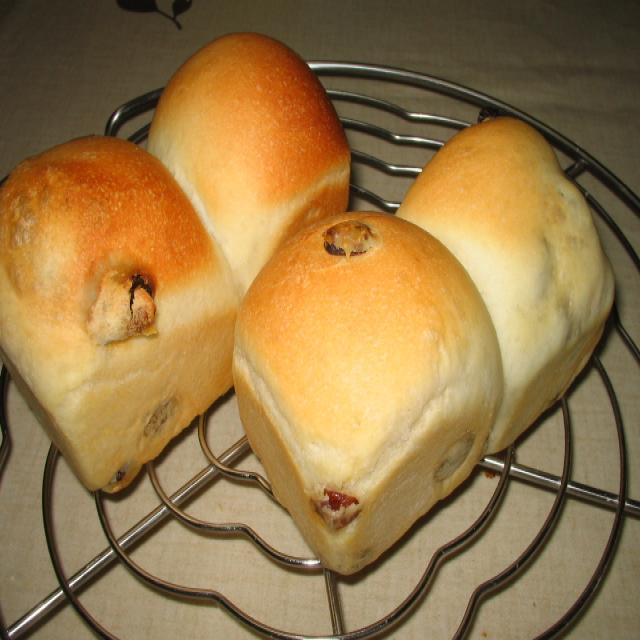面包点心: (0, 38, 640, 574)
